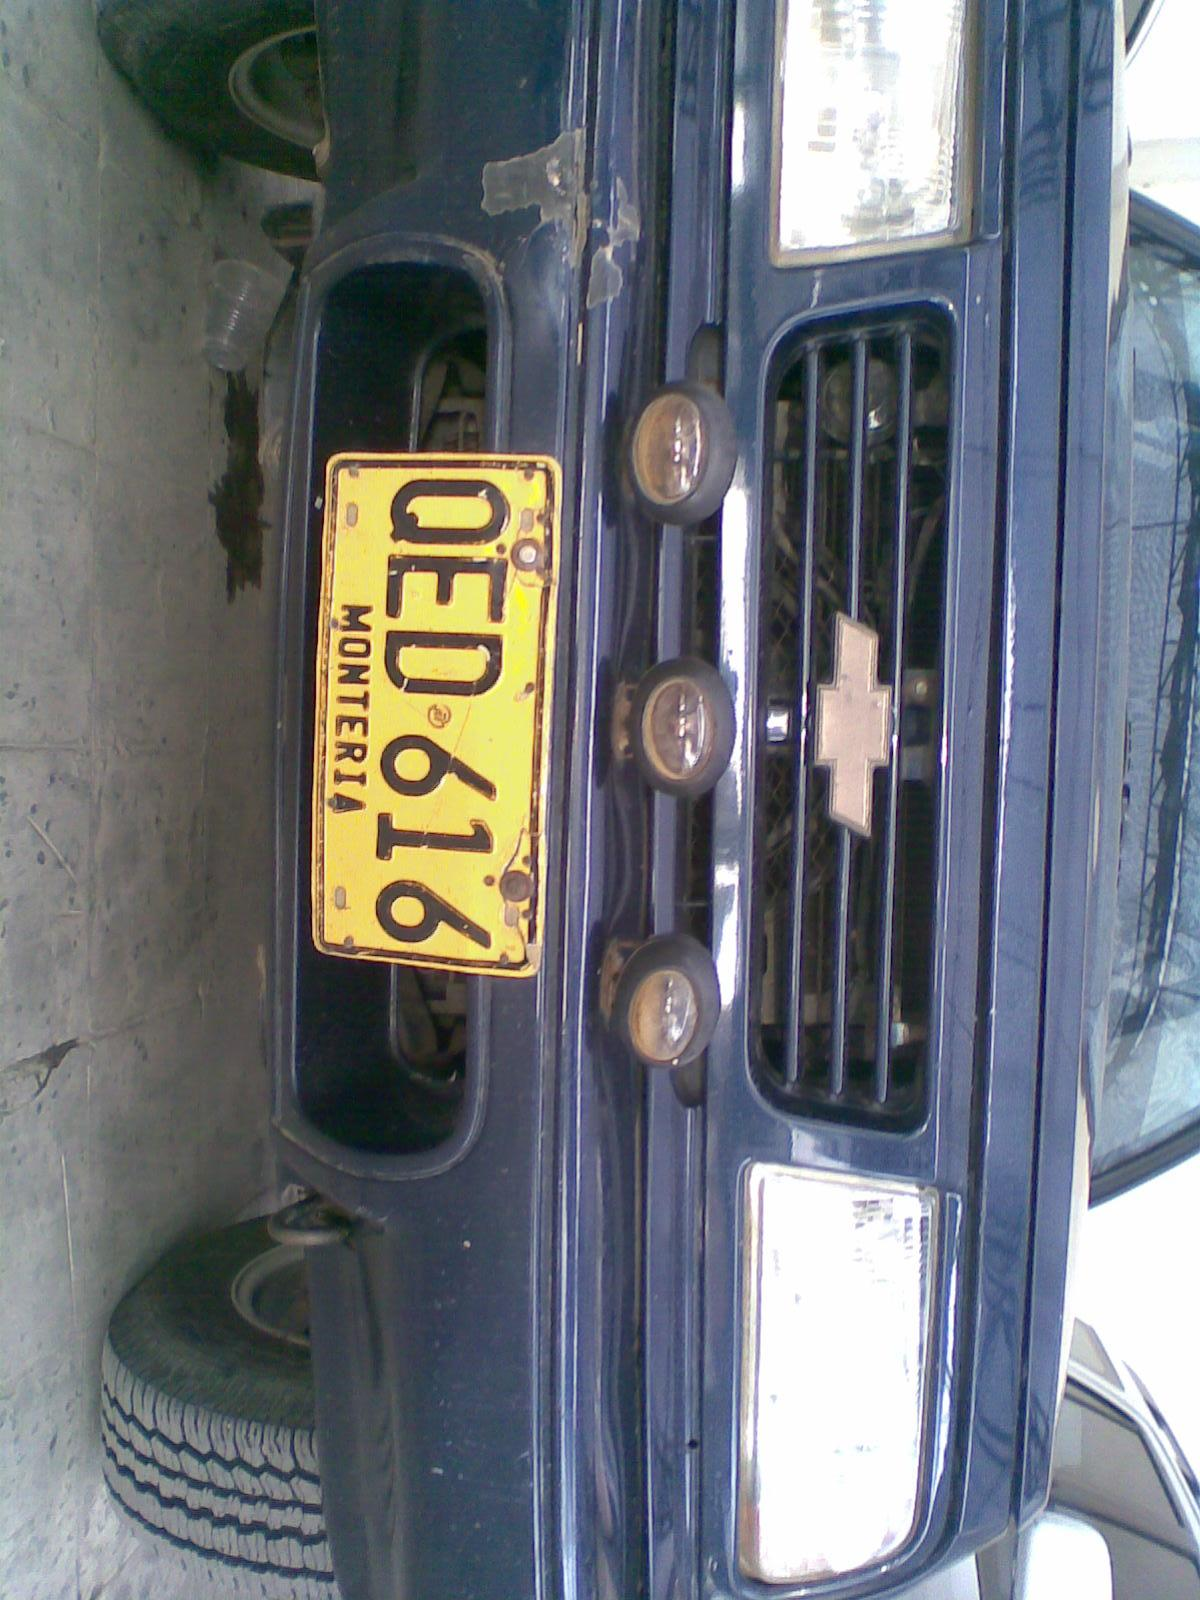placas: (298, 417, 570, 991)
